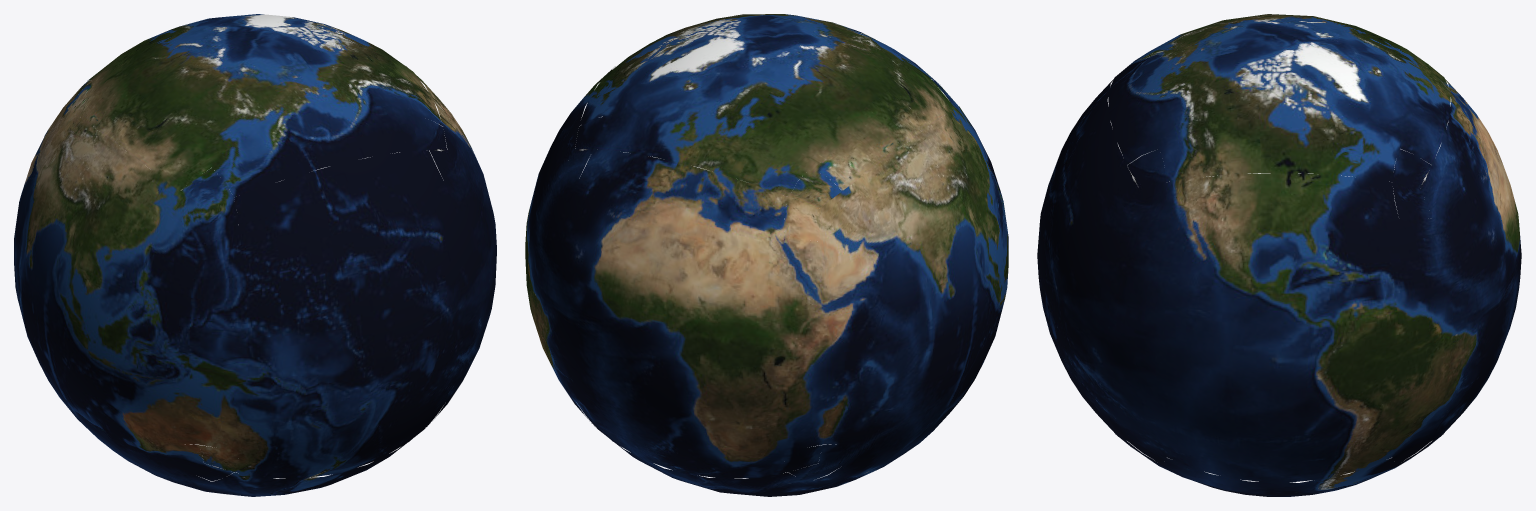
File: Earth_1_12756.glb
3 renders of one model, left to right at view 1: azimuth 30°, elevation 25°; view 2: azimuth 150°, elevation 25°; view 3: azimuth 270°, elevation 25°, orthographic.
Visible parts, largest first — view 1: Cube.001; view 2: Cube.001; view 3: Cube.001.
Part boxes in pixels (x1,y1,x2,y2): Cube.001: [14, 14, 496, 496]; Cube.001: [525, 14, 1008, 496]; Cube.001: [1037, 14, 1521, 496].
Bounding box in the file's own units: 1000 × 996 × 1000.
Materials: 1 (1 with a texture image).
